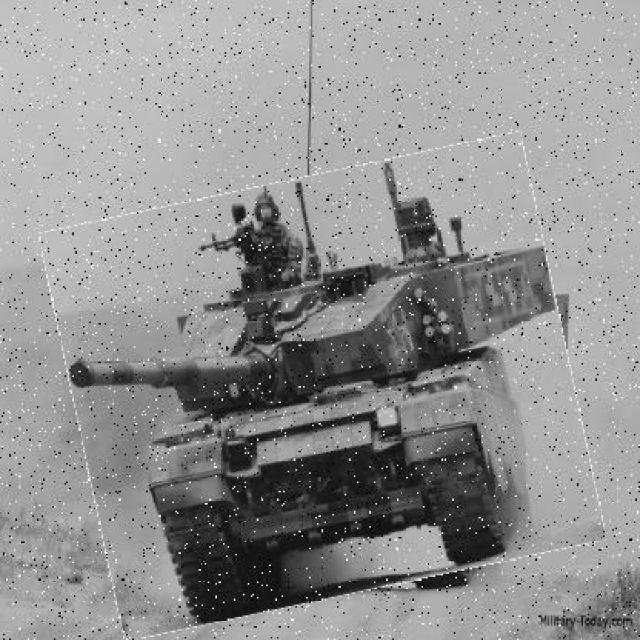Person: (286, 183, 337, 286)
Tank: (60, 155, 591, 618)
